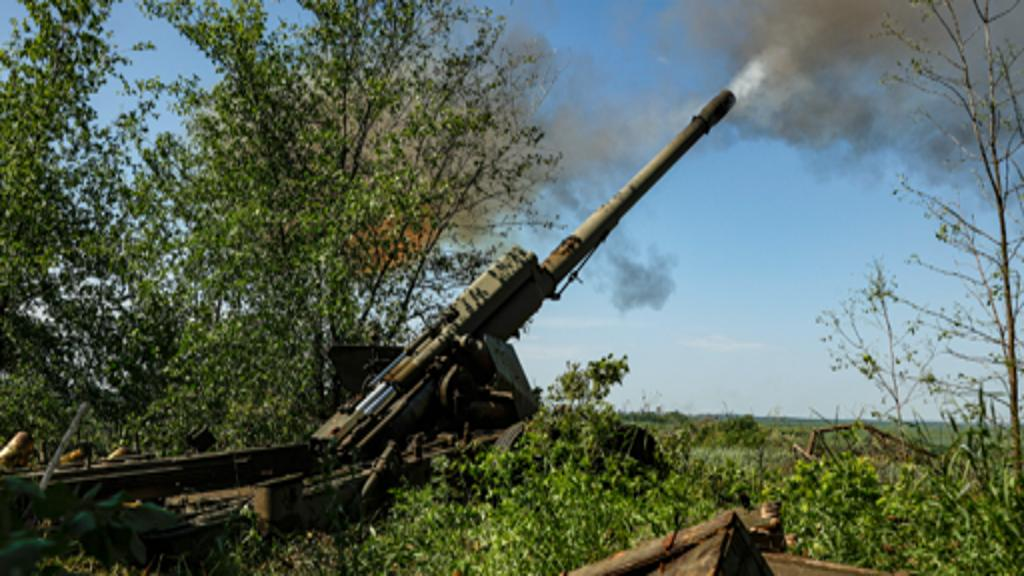ART: (0, 83, 738, 558)
